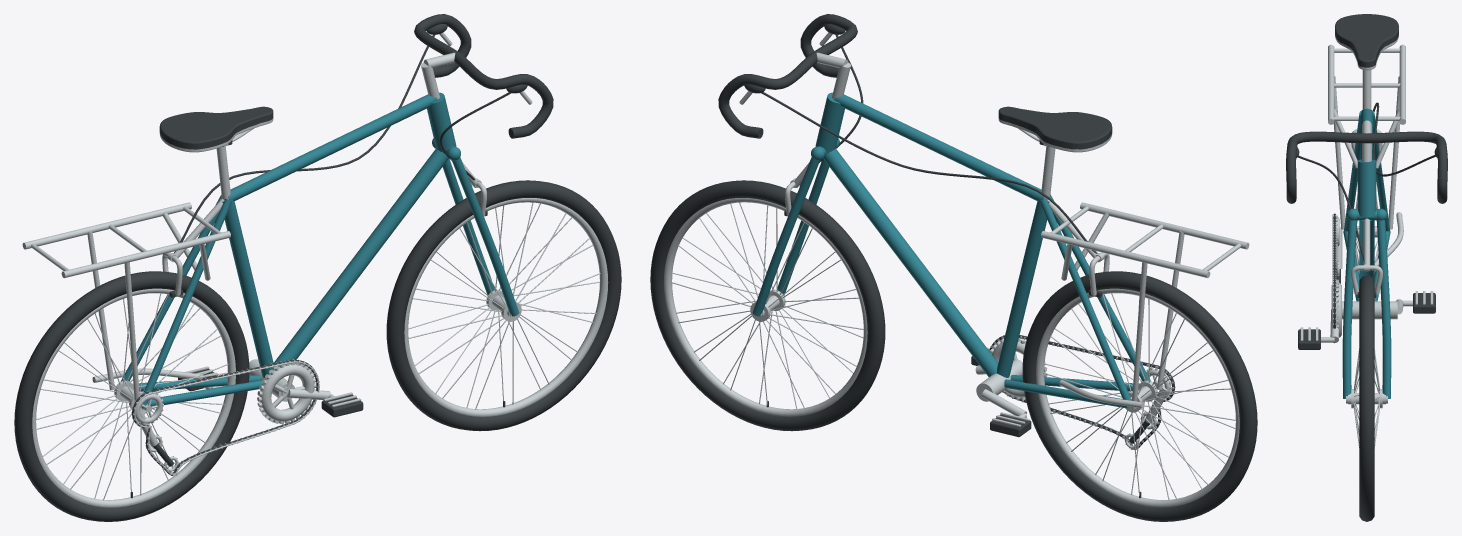
Rendered from bicycle-shop-and-repair-cafe-touring-bicycle-fbb90426.glb.
The picture shows the model from 3 angles, left to right: view 1: azimuth 30°, elevation 25°; view 2: azimuth 150°, elevation 25°; view 3: azimuth 270°, elevation 25°; orthographic projection. The views are drawn at different scales.
Parts seen in each view (by area): view 1: touring-bicycle; view 2: touring-bicycle; view 3: touring-bicycle.
Boxes of the visible parts, x1,y1,x2,y2 form: touring-bicycle: [14, 14, 621, 521]; touring-bicycle: [650, 14, 1257, 521]; touring-bicycle: [1286, 14, 1447, 521].
Bounding box in the file's own units: 1.79 × 1.1 × 0.451.
